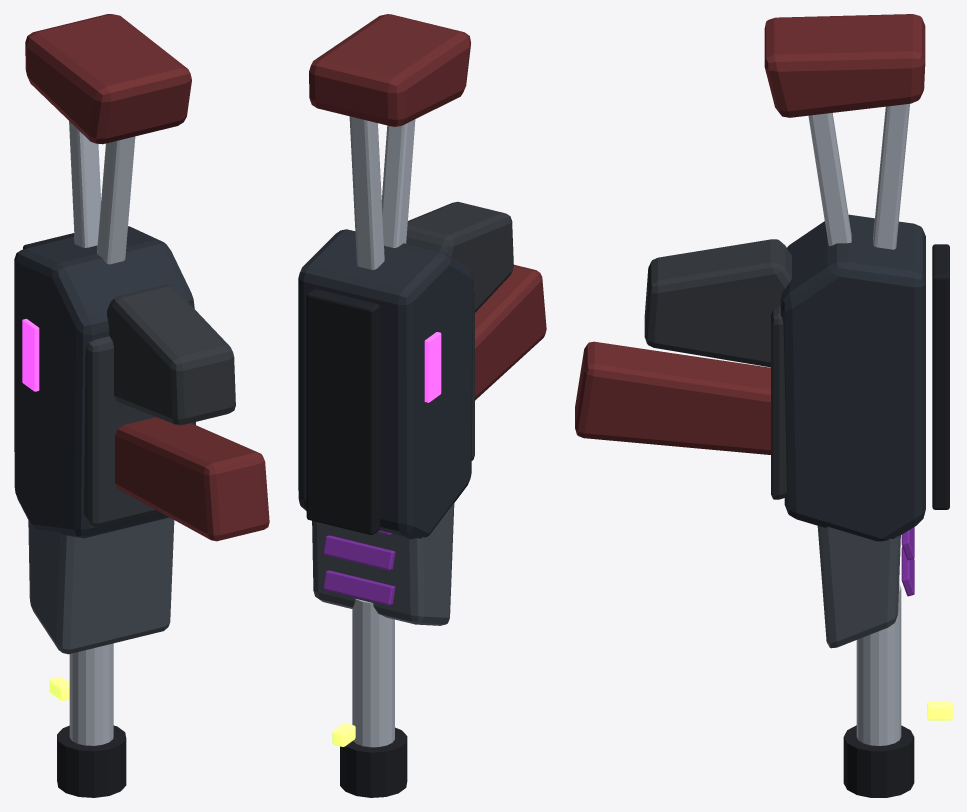
Rendered from BLIKK_V9_SMG.glb.
The picture shows the model from 3 angles, left to right: view 1: azimuth 30°, elevation 25°; view 2: azimuth 150°, elevation 25°; view 3: azimuth 270°, elevation 25°; orthographic projection. The views are drawn at different scales.
Visible parts, largest first — view 1: Receiver.001, Handguard, StockPad, Magazine, PistolGrip.001, ReceiverLower, Barrel, Muzzle, StockStrutBottom, StockStrutTop, V9Mark; view 2: Receiver.001, TopRail, StockPad, Handguard, PistolGrip.001, Magazine, Barrel, StockStrutTop, Muzzle, StockStrutBottom, HandguardVent_02, HandguardVent_01 (+3 smaller); view 3: Receiver.001, Magazine, StockPad, PistolGrip.001, Handguard, Barrel, TopRail, Muzzle, StockStrutTop, StockStrutBottom, ReceiverLower.
Boxes of the visible parts, left/top/right/bottom form: Receiver.001: left=14, top=226, right=194, bottom=538; Handguard: left=28, top=517, right=174, bottom=654; StockPad: left=25, top=14, right=191, bottom=144; Magazine: left=115, top=417, right=269, bottom=541; PistolGrip.001: left=107, top=284, right=235, bottom=425; ReceiverLower: left=84, top=336, right=195, bottom=527; Barrel: left=69, top=643, right=113, bottom=745; Muzzle: left=57, top=725, right=126, bottom=797; StockStrutBottom: left=97, top=136, right=135, bottom=264; StockStrutTop: left=69, top=121, right=100, bottom=247; V9Mark: left=22, top=318, right=39, bottom=391; Receiver.001: left=298, top=229, right=473, bottom=539; TopRail: left=306, top=289, right=379, bottom=534; StockPad: left=309, top=14, right=470, bottom=126; Handguard: left=312, top=503, right=454, bottom=625; PistolGrip.001: left=406, top=201, right=513, bottom=312; Magazine: left=475, top=264, right=546, bottom=400; Barrel: left=352, top=598, right=394, bottom=747; StockStrutTop: left=349, top=116, right=384, bottom=269; Muzzle: left=340, top=727, right=407, bottom=797; StockStrutBottom: left=381, top=119, right=415, bottom=247; HandguardVent_02: left=323, top=570, right=395, bottom=605; HandguardVent_01: left=323, top=535, right=395, bottom=570; Receiver.001: left=780, top=214, right=925, bottom=541; Magazine: left=575, top=341, right=770, bottom=454; StockPad: left=764, top=14, right=925, bottom=117; PistolGrip.001: left=644, top=239, right=791, bottom=367; Handguard: left=817, top=526, right=900, bottom=648; Barrel: left=856, top=584, right=901, bottom=745; TopRail: left=932, top=244, right=949, bottom=509; Muzzle: left=843, top=725, right=914, bottom=797; StockStrutTop: left=873, top=104, right=909, bottom=249; StockStrutBottom: left=808, top=113, right=851, bottom=246; ReceiverLower: left=771, top=306, right=786, bottom=499.
Bounding box in the file's own units: 0.6035 × 3.53 × 1.61.
